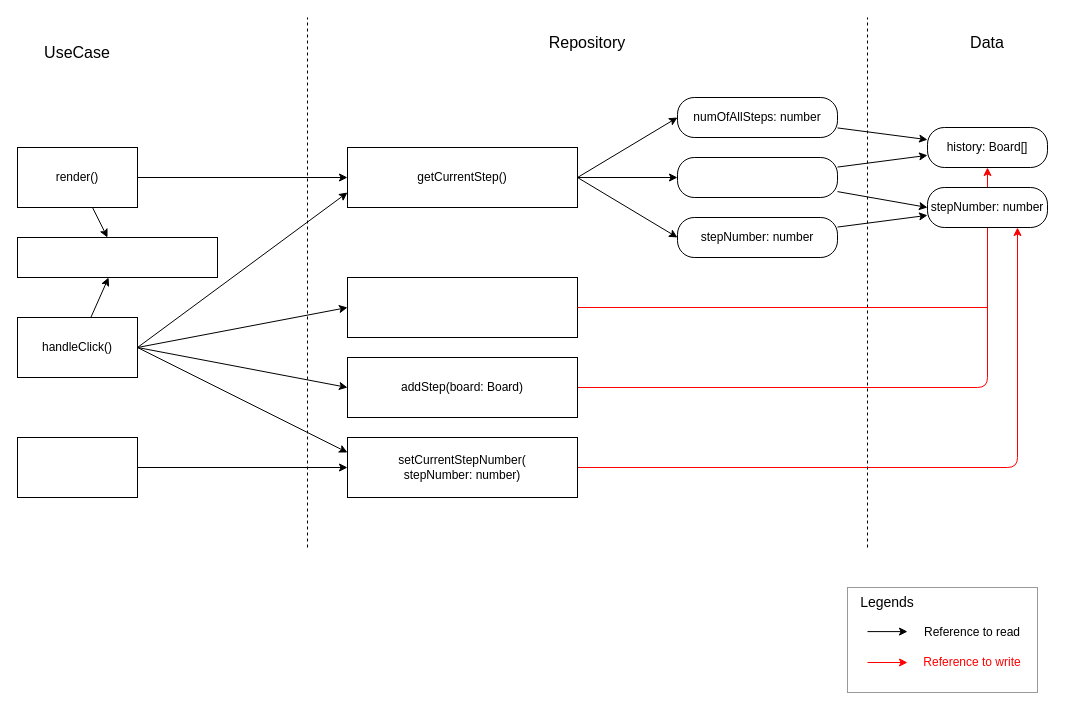
The diagram is 1065 pixels wide and 710 high, and some of its shapes have lost their labels. Here are the shapes that lost their labels. From the top down, the centre of each, then its label:
At point 757,177: "board: Board".
At point 117,257: "Utility function isNextTurnX(currentStepNumber)".
At point 462,307: "deleteStepsAfterCurrentStepNumber()".
At point 77,467: "jumpTo(step)".
